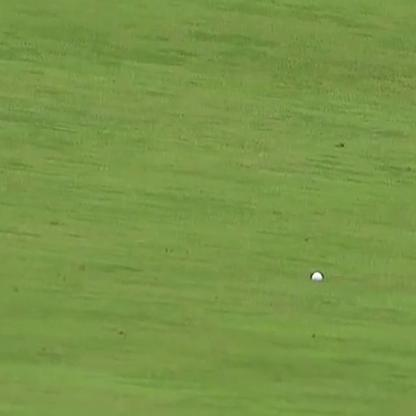golfball: (309, 271, 320, 281)
